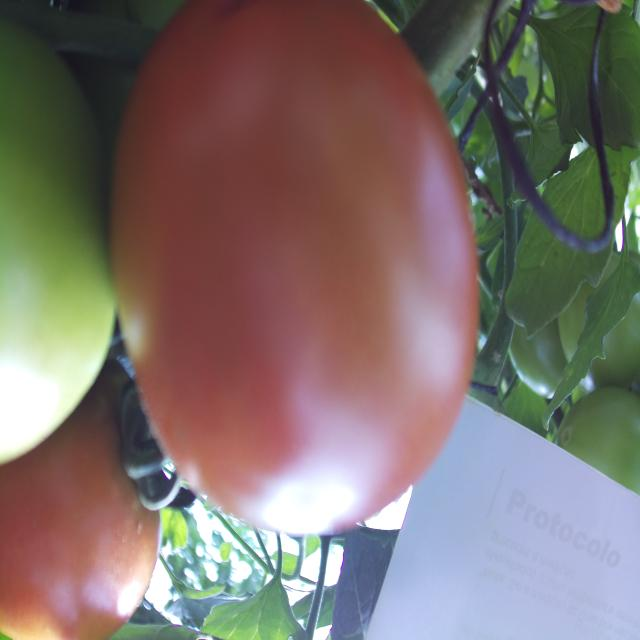kirmizi: (109, 0, 547, 552)
